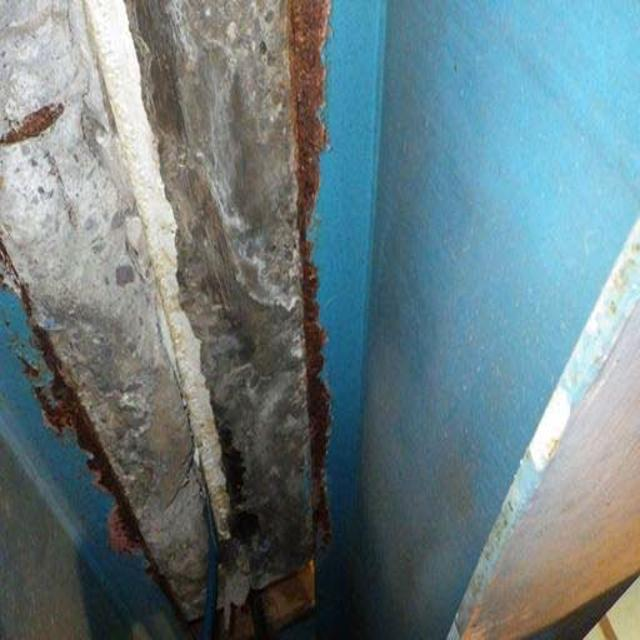corrosion: (263, 6, 361, 568), (23, 316, 188, 628)
